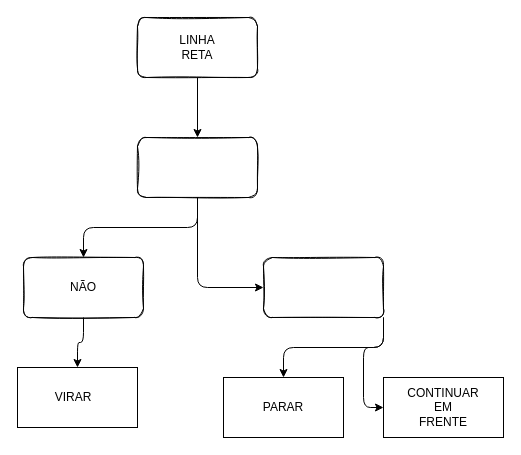
This 521x455 diagram has some shape labels left out. The centre of each missing label's shape, as x and y in pixels:
"LINHA CONTINUA RETA?" goes at point (197, 167).
"SIM" goes at point (323, 287).
